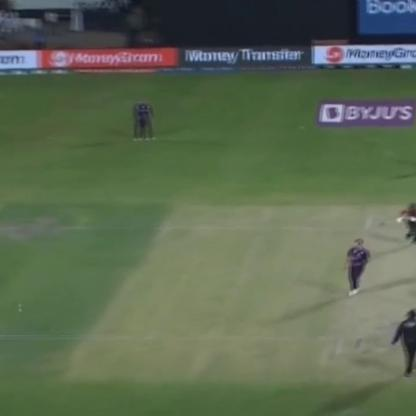ball: (14, 305, 24, 316), (14, 300, 26, 307)
pitch: (340, 197, 415, 380)
